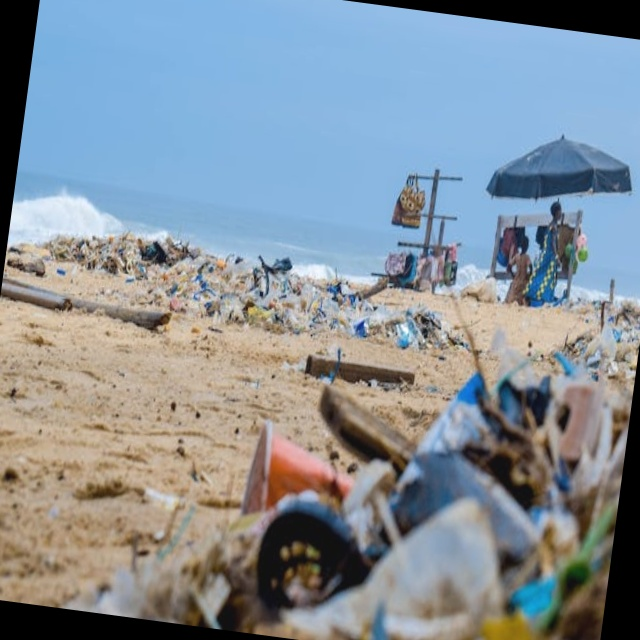contaminated_water: (13, 13, 627, 627)
foam_scum: (0, 196, 640, 463)
turbid_water: (0, 226, 640, 640)
